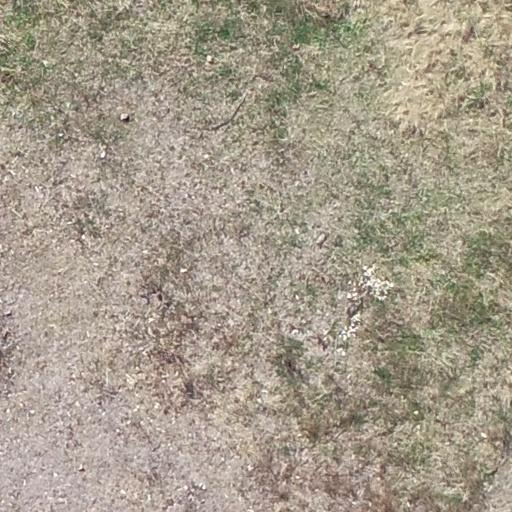stone: (118, 112, 132, 124), (205, 56, 215, 63), (78, 464, 86, 472), (4, 309, 12, 316)
